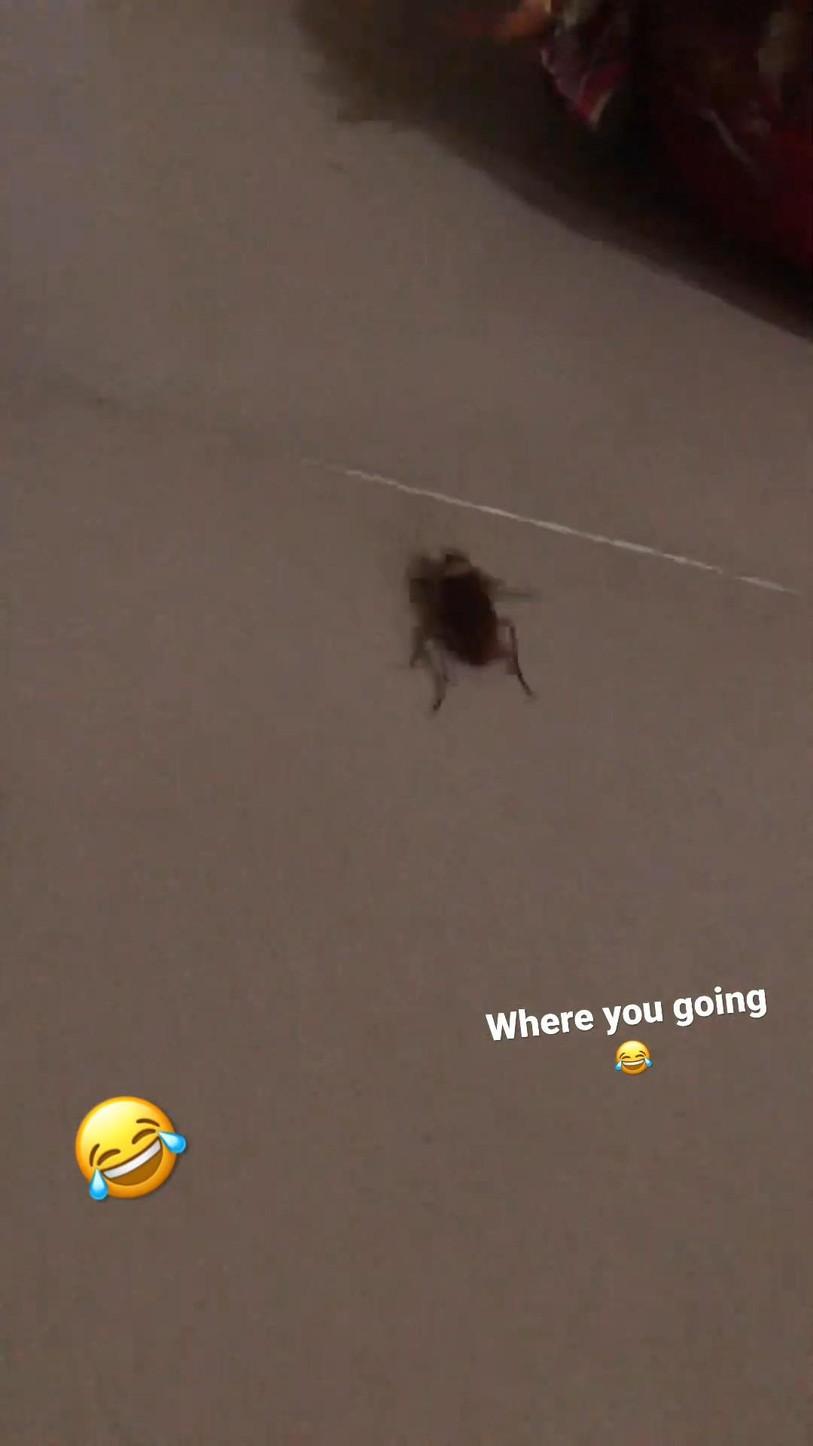cockroach: (355, 524, 562, 741)
